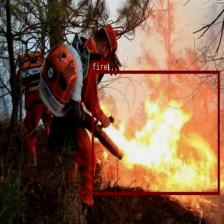fire: (92, 70, 219, 194)
